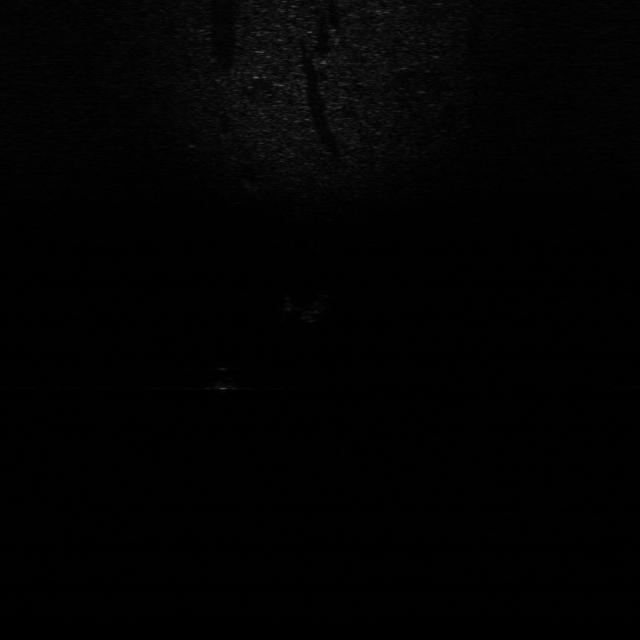ball: (206, 364, 244, 398)
human body: (287, 290, 348, 320)
